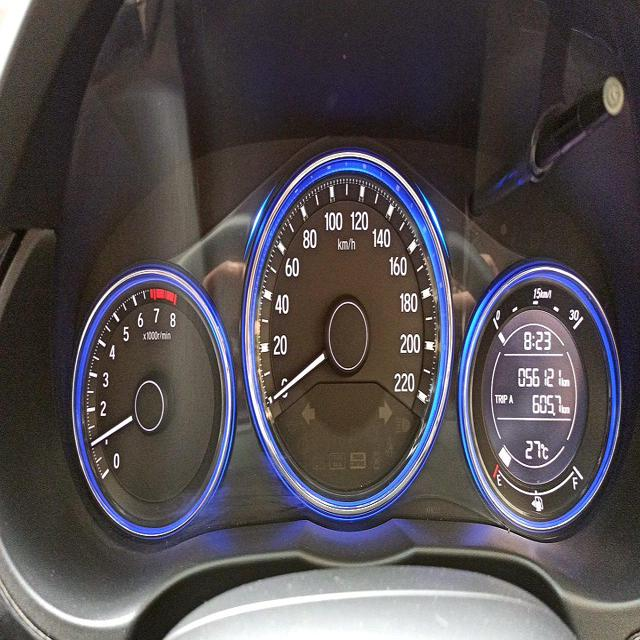odometer: (514, 362, 563, 392)
